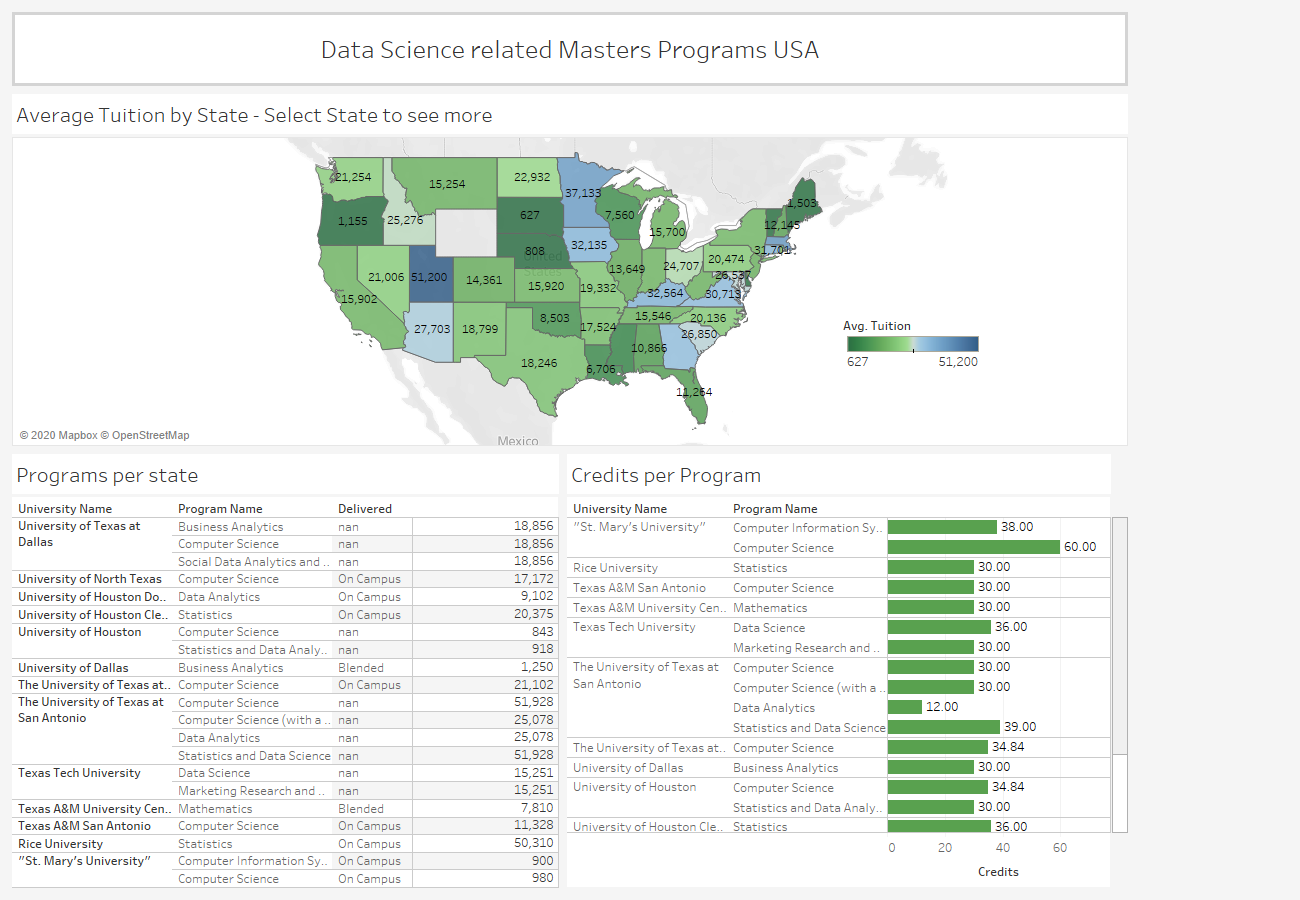

What the dashboard file says about the page in this screenshot:
{"tool":"tableau","page":{"name":"Dashboard 1","canvas":[1300,900],"ordinal":0},"visuals":[{"type":"worksheet","box":[0,0,1300,900]},{"type":"worksheet","param":"horz","box":[8,8,1284,884]},{"type":"worksheet","param":"vert","box":[8,8,1124,884]},{"type":"worksheet","box":[8,8,1124,82]},{"type":"worksheet","param":"vert","box":[1132,8,160,884]},{"type":"worksheet","title":"Sheet 3","mark":"Automatic","rows":["university_name","program_name","delivered"],"param":"[federated.1lcpweg14cwflj190zvwe1orv42t].[mn:start_date:ok]","box":[1132,8,160,22]},{"type":"worksheet","box":[8,90,1124,802]},{"type":"worksheet","title":"Sheet 2","mark":"Automatic","box":[8,90,1124,360]},{"type":"worksheet","title":"Sheet 2","mark":"Automatic","param":"[federated.1lcpweg14cwflj190zvwe1orv42t].[avg:tuition:qk]","box":[843,313,140,76]},{"type":"worksheet","param":"horz","box":[8,450,1124,442]},{"type":"worksheet","title":"Sheet 3","mark":"Automatic","rows":["university_name","program_name","delivered"],"box":[8,450,555,442]},{"type":"worksheet","title":"Sheet 1","mark":"Bar","rows":["university_name","program_name"],"cols":["credits"],"box":[563,450,569,442]}]}

Visuals, with their boxes in screenshot pixels (x1, y1, x2, y2), scaled from the page's 1300x900 canvas onto the 1300x900 screenshot:
worksheet: x1=0 y1=0 x2=1299 y2=899
worksheet: x1=8 y1=8 x2=1292 y2=892
worksheet: x1=8 y1=8 x2=1132 y2=892
worksheet: x1=8 y1=8 x2=1132 y2=90
worksheet: x1=1132 y1=8 x2=1292 y2=892
"Sheet 3" worksheet: x1=1132 y1=8 x2=1292 y2=30
worksheet: x1=8 y1=90 x2=1132 y2=892
"Sheet 2" worksheet: x1=8 y1=90 x2=1132 y2=450
"Sheet 2" worksheet: x1=843 y1=313 x2=983 y2=389
worksheet: x1=8 y1=450 x2=1132 y2=892
"Sheet 3" worksheet: x1=8 y1=450 x2=563 y2=892
"Sheet 1" worksheet (Bar marks): x1=563 y1=450 x2=1132 y2=892
